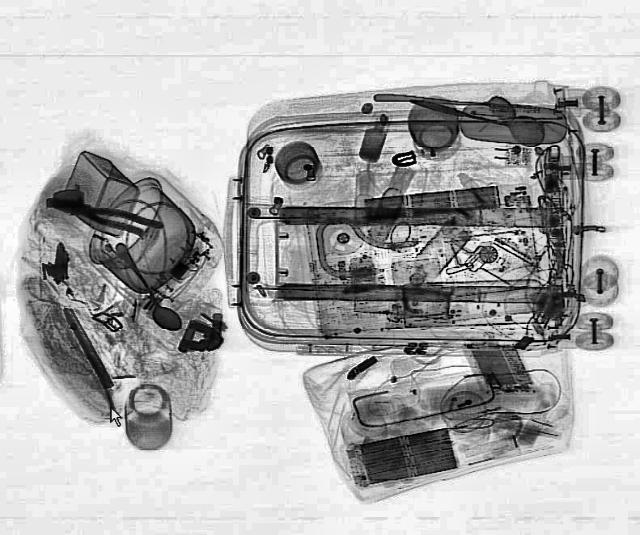Pliers: (42, 190, 164, 240)
